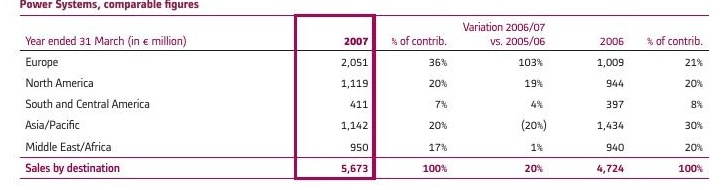table: (0, 0, 728, 190)
